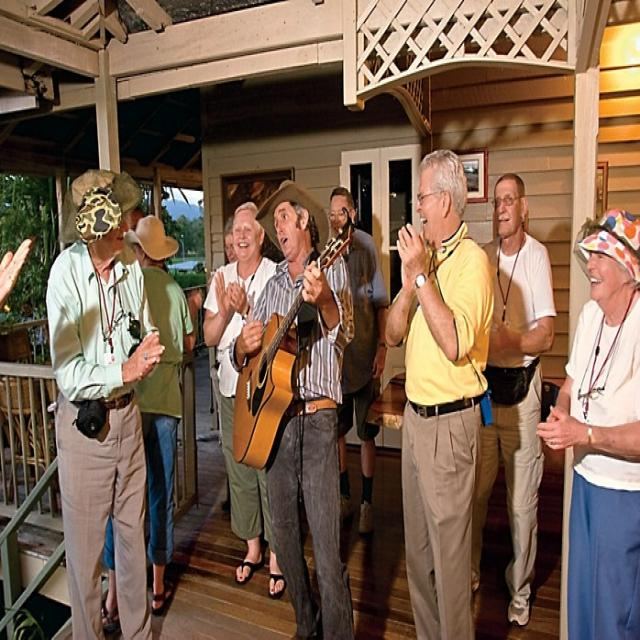body: (227, 176, 356, 640), (44, 167, 168, 638), (382, 144, 495, 639), (535, 201, 639, 638), (99, 213, 204, 628), (472, 168, 558, 629), (203, 201, 287, 596), (326, 184, 392, 541), (341, 506, 407, 638), (0, 230, 34, 312), (221, 209, 237, 265), (128, 203, 148, 236)
